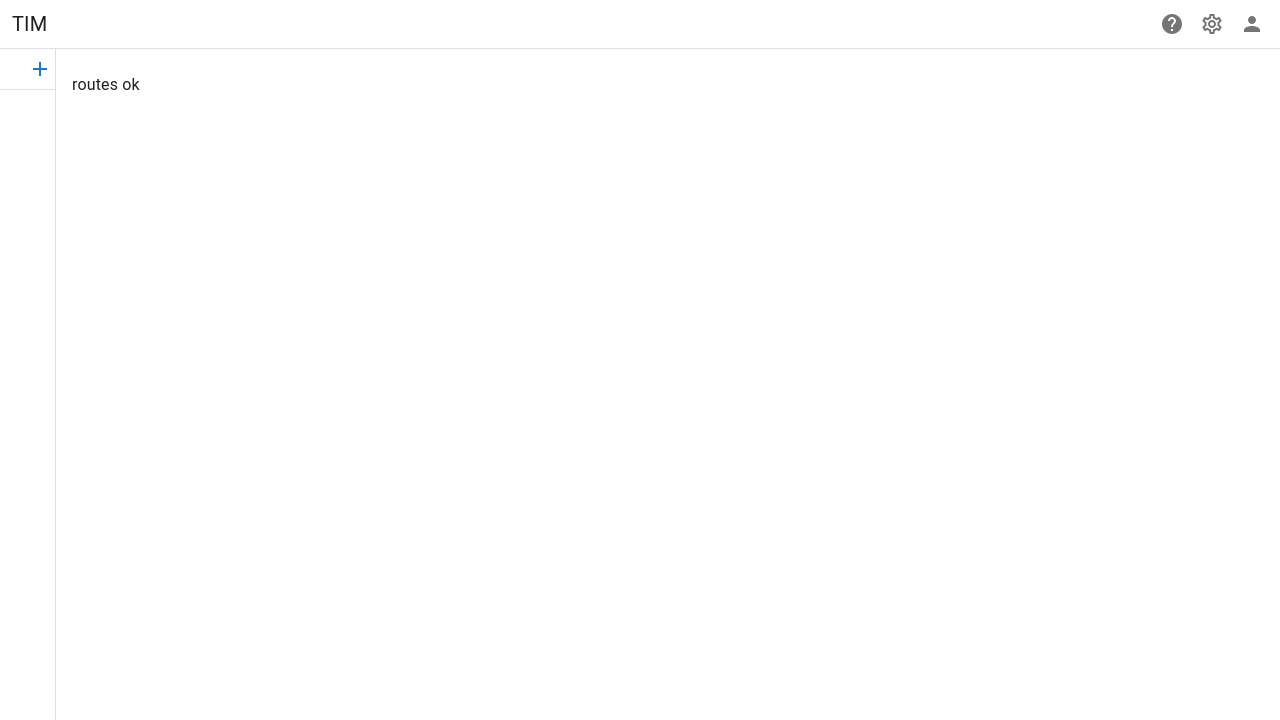
AppShell / AuthGate › logout shows the snackbar
Expected: the text "routes ok" is shown, [72,75,140,94]
Click the button named "Account" at [1252, 24], box [1232,4,1272,44]
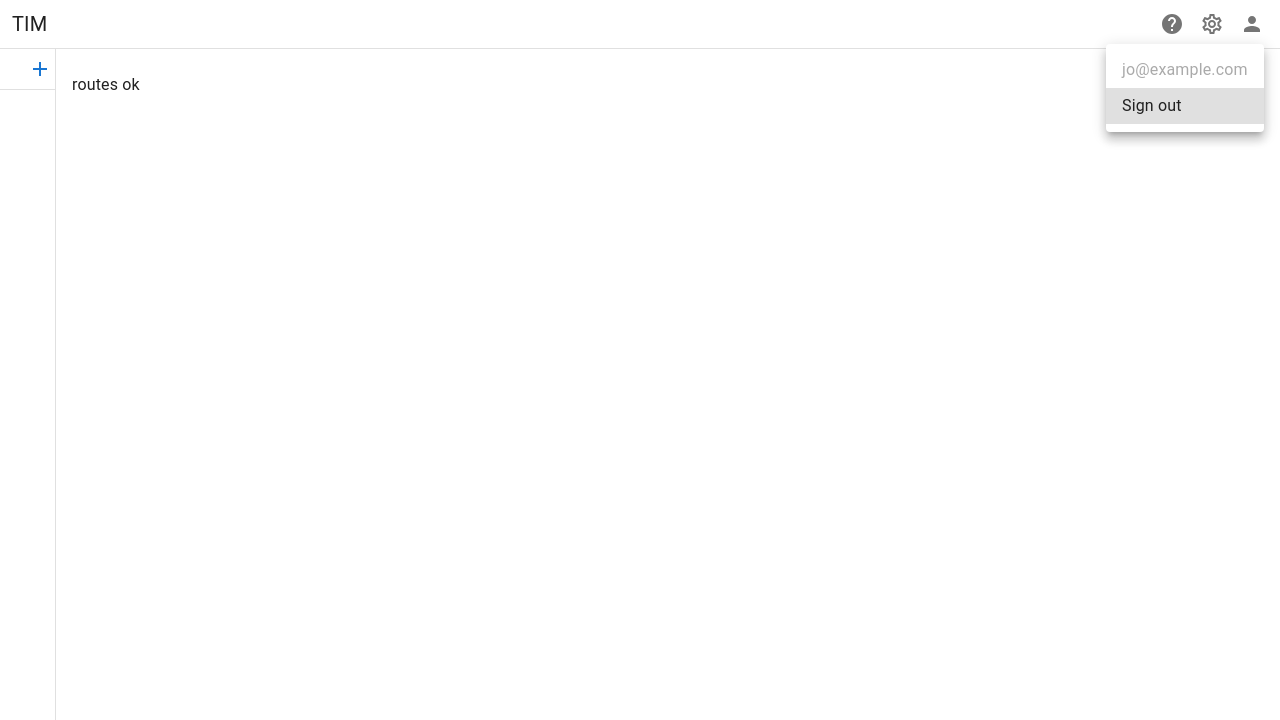
Click the menu item "Sign out" at [1185, 106], box [1106,88,1264,124]
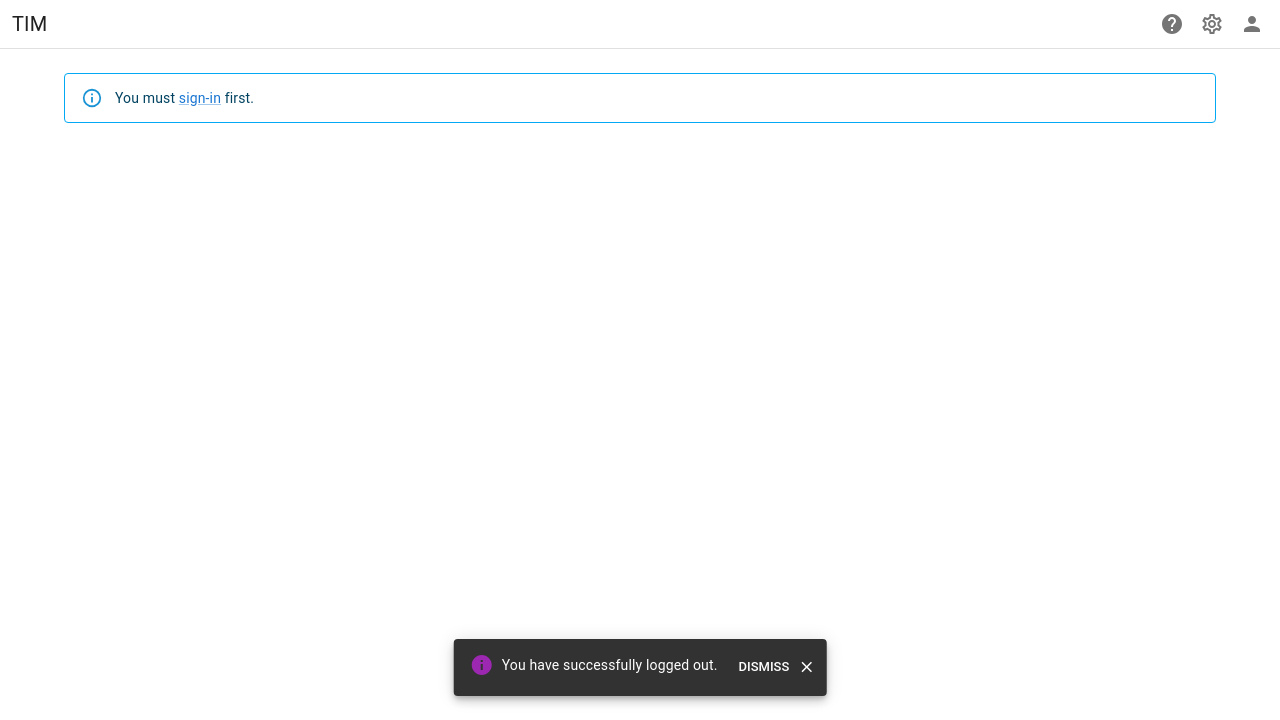
Expected: the text "You have successfully logged out." is shown, [470,653,718,677]
Expected: the text "routes ok" is gone
